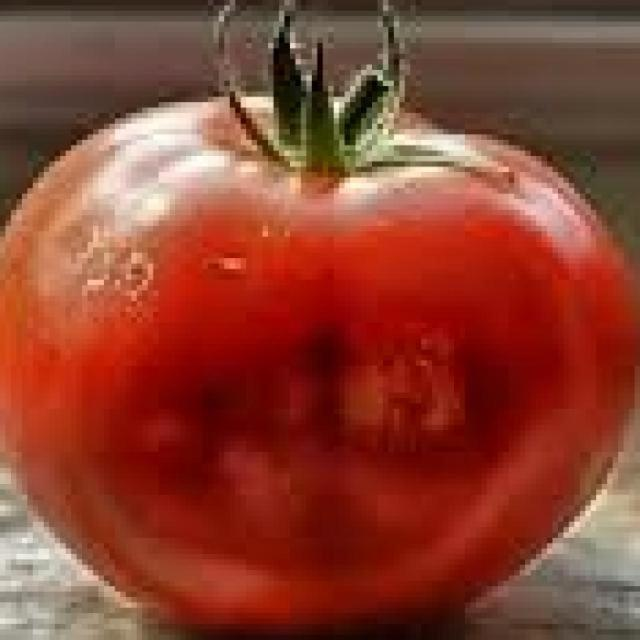Healthy Fruit: (3, 2, 421, 377)
